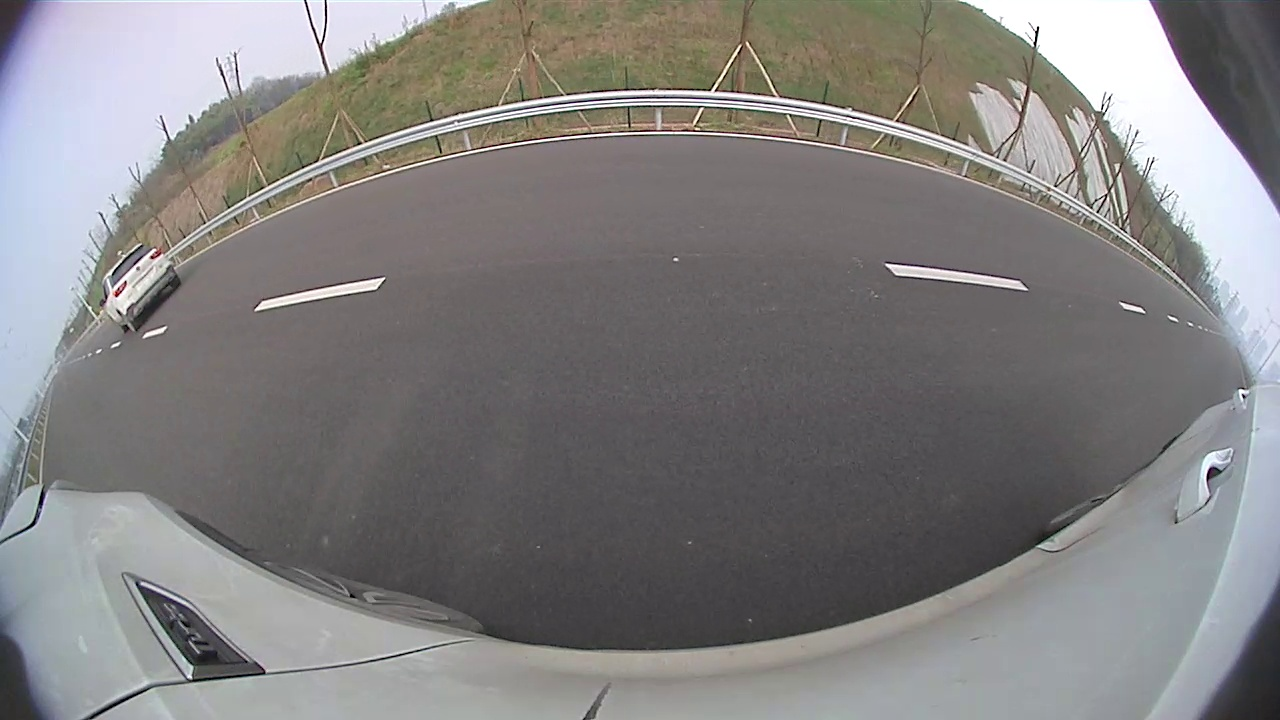car: (99, 243, 181, 332)
rear: (117, 311, 137, 333)
